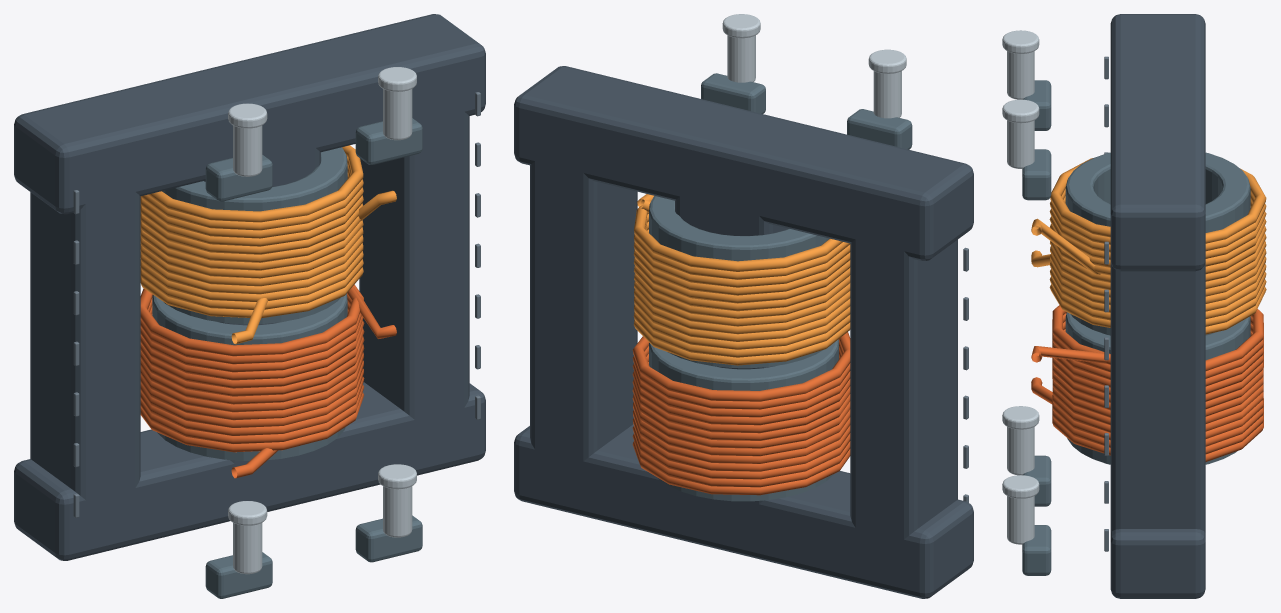
Rendered from transformer-educational.glb.
3 renders of one model, left to right at view 1: azimuth 30°, elevation 25°; view 2: azimuth 150°, elevation 25°; view 3: azimuth 270°, elevation 25°, orthographic. The views are drawn at different scales.
Visible parts, largest first — view 1: core, primary_winding, secondary_winding, coil_former, core_lamination_detail, primary_terminal_2_mount, primary_terminal_1_mount, secondary_terminal_1_mount, secondary_terminal_2_mount, primary_terminal_1, secondary_terminal_2, secondary_terminal_1 (+5 smaller); view 2: core, primary_winding, secondary_winding, coil_former, secondary_terminal_1_mount, secondary_terminal_2_mount, secondary_terminal_1, secondary_terminal_2, secondary_terminal_1_cap, secondary_terminal_2_cap, core_lamination_detail; view 3: core, secondary_winding, primary_winding, coil_former, secondary_terminal_2_mount, primary_terminal_2_mount, primary_terminal_2, primary_terminal_1, secondary_terminal_1, secondary_terminal_2, core_lamination_detail, primary_terminal_1_mount (+5 smaller).
Part boxes in pixels (x1,y1,x2,y2): core: [14, 14, 485, 560]; primary_winding: [140, 284, 396, 478]; secondary_winding: [140, 145, 396, 344]; coil_former: [152, 147, 347, 460]; core_lamination_detail: [73, 92, 480, 517]; primary_terminal_2_mount: [355, 515, 422, 562]; primary_terminal_1_mount: [205, 552, 272, 598]; secondary_terminal_1_mount: [205, 155, 272, 201]; secondary_terminal_2_mount: [355, 118, 422, 164]; primary_terminal_1: [233, 523, 262, 574]; secondary_terminal_2: [383, 89, 412, 140]; secondary_terminal_1: [233, 125, 262, 176]; core: [514, 66, 973, 598]; primary_winding: [632, 332, 850, 495]; secondary_winding: [633, 194, 850, 365]; coil_former: [649, 196, 838, 501]; secondary_terminal_1_mount: [847, 109, 912, 149]; secondary_terminal_2_mount: [701, 73, 765, 113]; secondary_terminal_1: [873, 71, 901, 118]; secondary_terminal_2: [727, 35, 755, 82]; secondary_terminal_1_cap: [868, 49, 906, 73]; secondary_terminal_2_cap: [722, 14, 760, 38]; core_lamination_detail: [963, 247, 968, 502]; core: [1110, 14, 1205, 598]; secondary_winding: [1031, 158, 1266, 334]; primary_winding: [1031, 305, 1263, 461]; coil_former: [1065, 152, 1250, 464]; secondary_terminal_2_mount: [1022, 149, 1051, 200]; primary_terminal_2_mount: [1022, 525, 1051, 575]; primary_terminal_2: [1007, 496, 1034, 544]; primary_terminal_1: [1007, 427, 1034, 475]; secondary_terminal_1: [1007, 51, 1034, 99]; secondary_terminal_2: [1007, 120, 1034, 168]; core_lamination_detail: [1104, 56, 1108, 551]; primary_terminal_1_mount: [1023, 455, 1051, 506].
Size of the model in its own units: 3.55 by 3.83 by 2.
